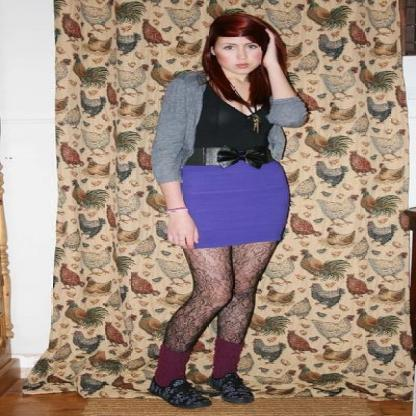jacket: (137, 65, 306, 185)
shirt: (194, 93, 274, 155)
shoe: (143, 372, 258, 409)
skirt: (178, 158, 294, 248)
